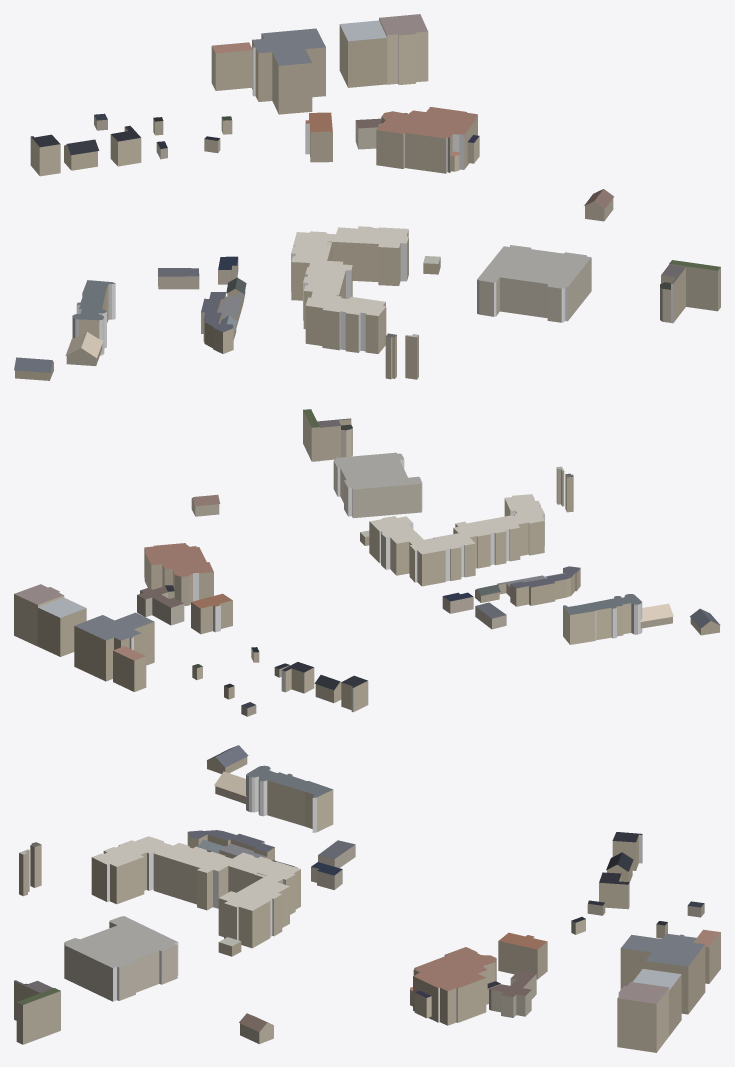
3 views of the same model, one above another, from view 1: azimuth 30°, elevation 25°; view 2: azimuth 150°, elevation 25°; view 3: azimuth 270°, elevation 25° (orthographic). The views are drawn at different scales.
Parts seen in each view (by area): view 1: tuile; view 2: tuile; view 3: tuile.
Boxes of the visible parts, left/top/right/bottom form: tuile: left=14, top=14, right=720, bottom=380; tuile: left=14, top=409, right=720, bottom=716; tuile: left=14, top=745, right=720, bottom=1052.
Bounding box in the file's own units: 258 × 23.63 × 257.
